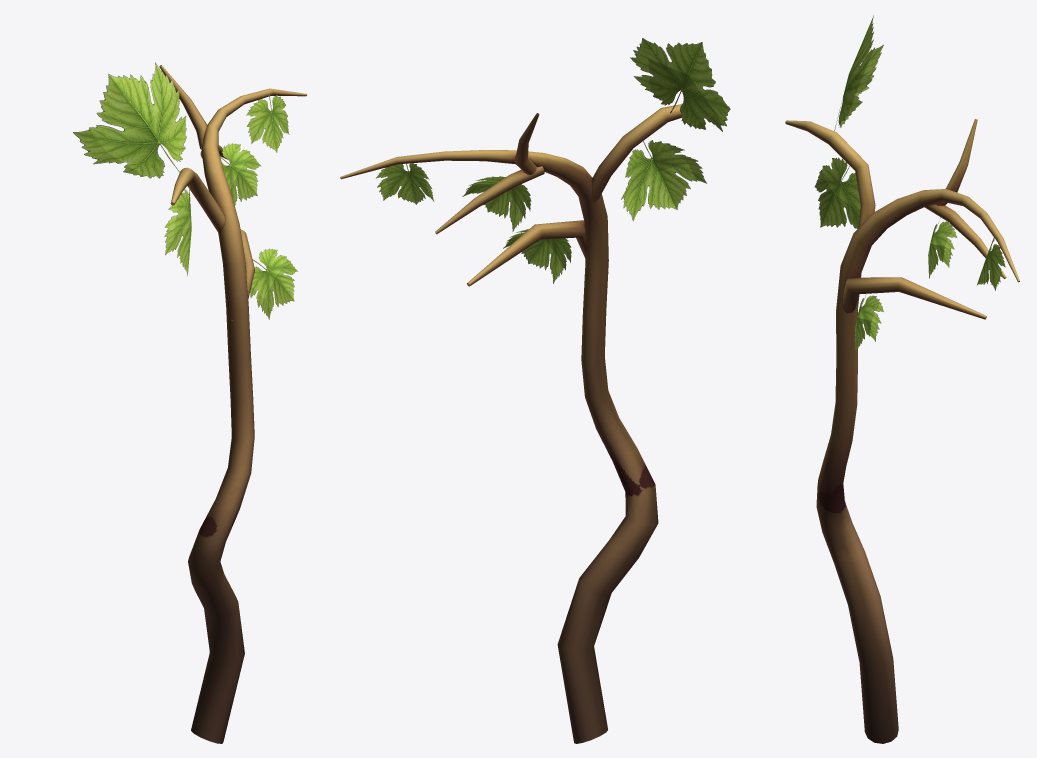
The model's file is Grape_Stage_1.fbx.
The picture shows the model from 3 angles, left to right: view 1: azimuth 30°, elevation 25°; view 2: azimuth 150°, elevation 25°; view 3: azimuth 270°, elevation 25°; orthographic projection. The views are drawn at different scales.
Parts seen in each view (by area): view 1: NurbsPath.002; view 2: NurbsPath.002; view 3: NurbsPath.002.
Part boxes in pixels (x1,y1,x2,y2): NurbsPath.002: (73,62,307,743); NurbsPath.002: (340,38,730,743); NurbsPath.002: (785,15,1019,743).
Bounding box in the file's own units: 65.24 × 130 × 39.99.
Materials: 2 (2 with a texture image).
